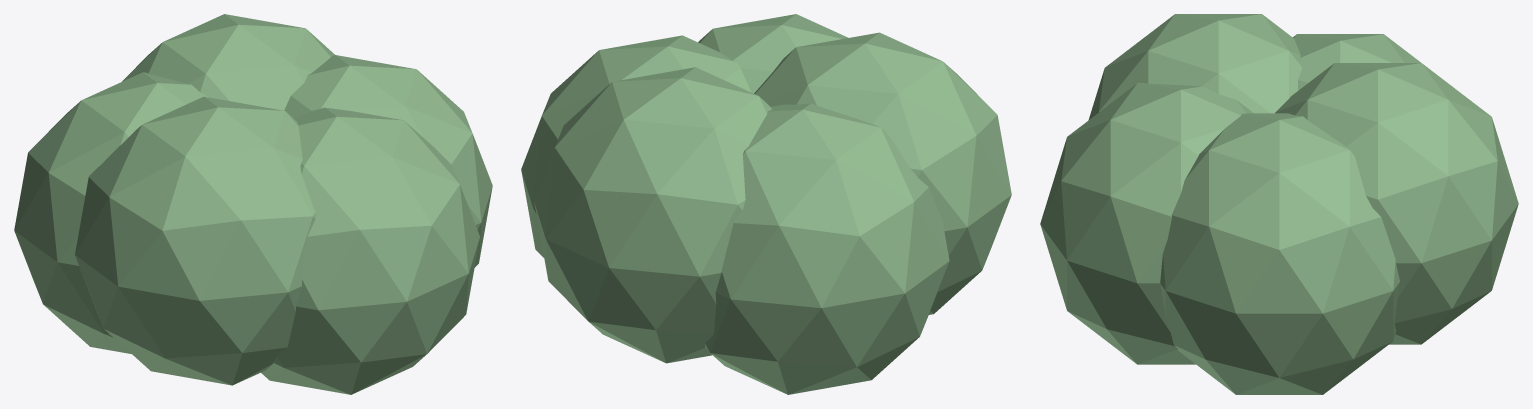
The model's file is shrub.fbx.
The picture shows the model from 3 angles, left to right: view 1: azimuth 30°, elevation 25°; view 2: azimuth 150°, elevation 25°; view 3: azimuth 270°, elevation 25°; orthographic projection. The views are drawn at different scales.
Parts seen in each view (by area): view 1: shrub_mesh; view 2: shrub_mesh; view 3: shrub_mesh.
Boxes of the visible parts, box(x1,y1,x2,y2) form: shrub_mesh: box(14, 14, 492, 394); shrub_mesh: box(521, 14, 1011, 394); shrub_mesh: box(1040, 14, 1518, 394).
Bounding box in the file's own units: 1.27 × 0.8907 × 1.29.
